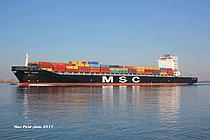Ship: (9, 46, 201, 93)
